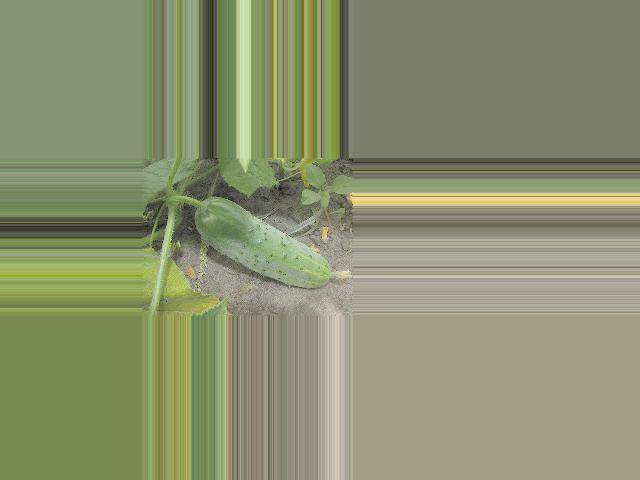cucumber: (195, 197, 352, 289)
